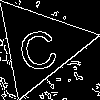C: (14, 19, 60, 72)
